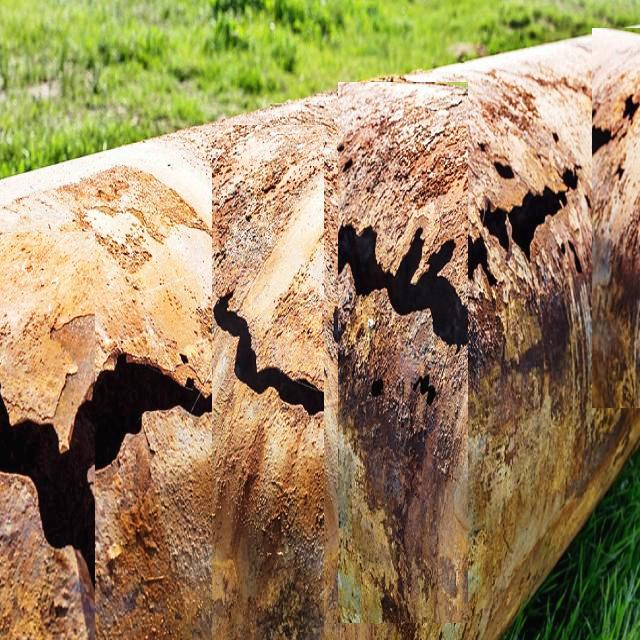Corrosion: (0, 30, 640, 640)
